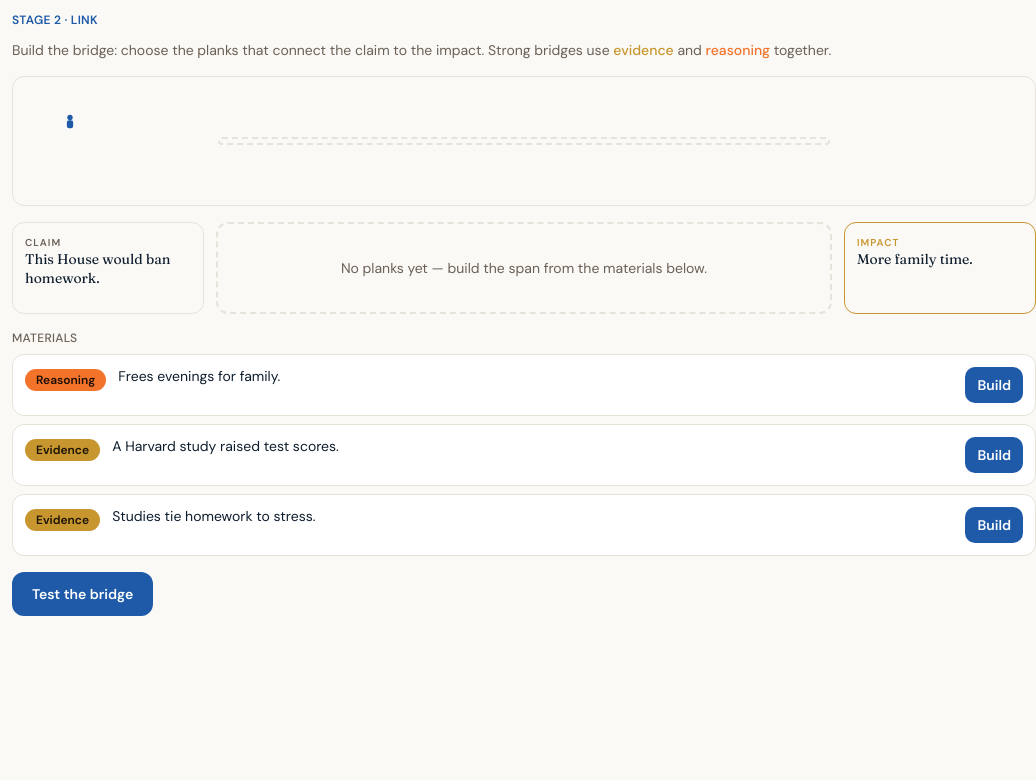
Test: LinkCard › shows the bridge holding when the two fitting planks are built and no wrong ones
Click the button "Build" in the row of "Studies tie homework to stress.".
click(994, 525)  # box [966,507,1023,543]
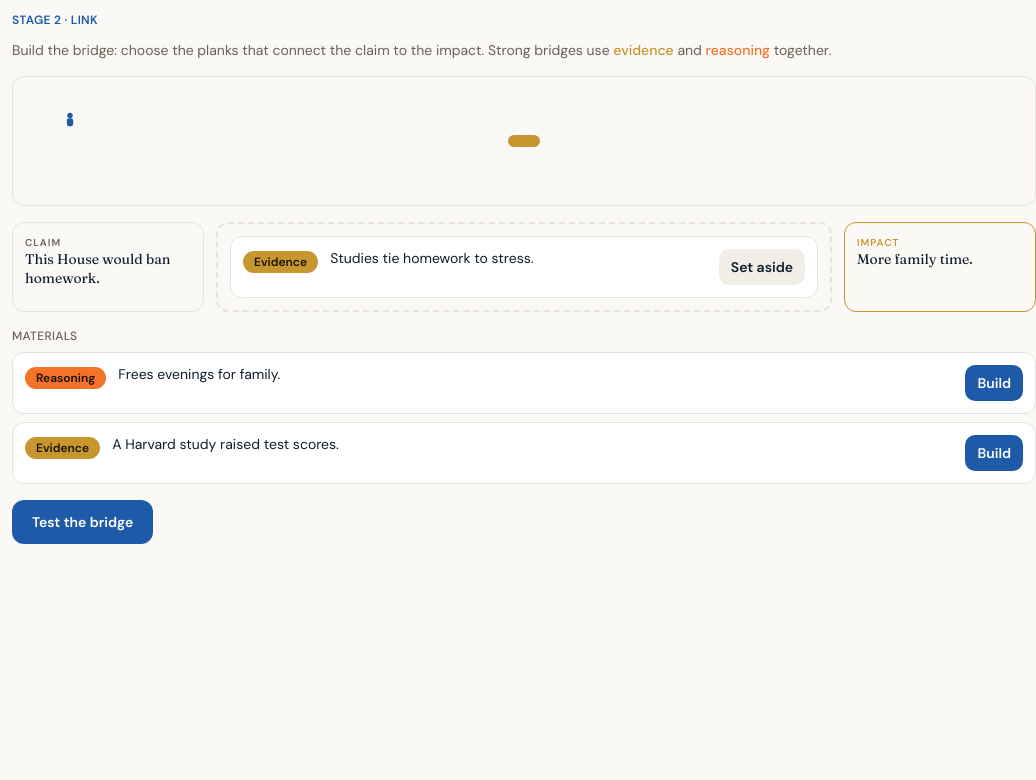
Click the button "Build" in the row of "Frees evenings for family.".
click(994, 383)  # box [966,365,1023,401]
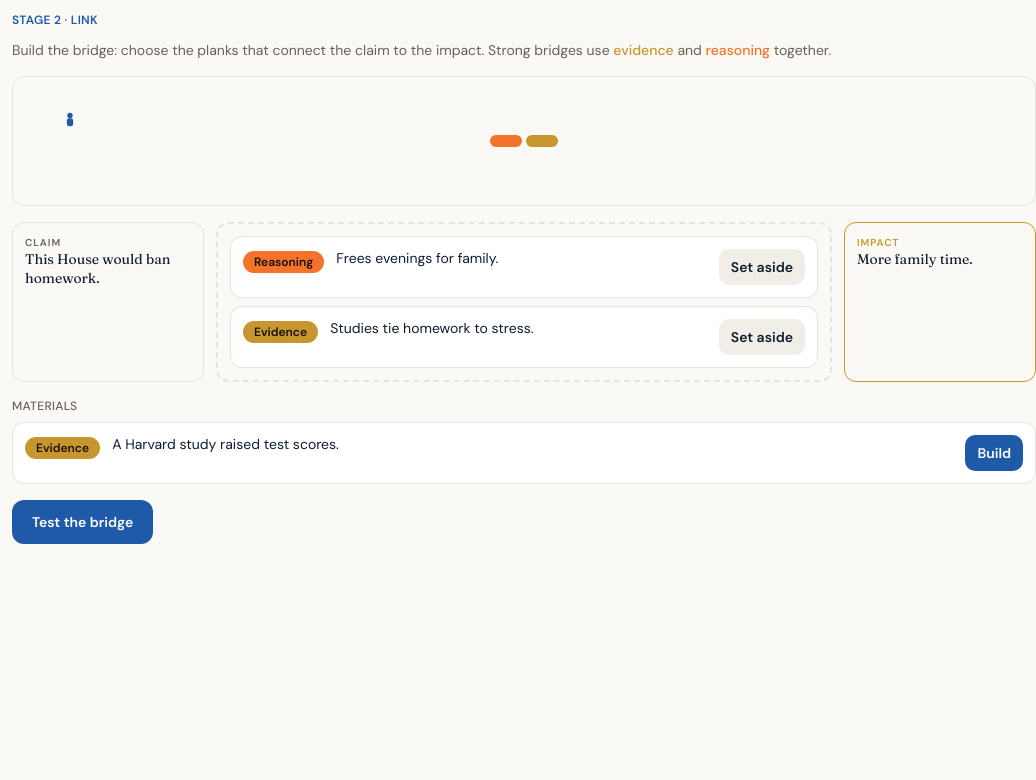
Click the button "Test the bridge".
click(83, 522)  # box [12,500,153,544]
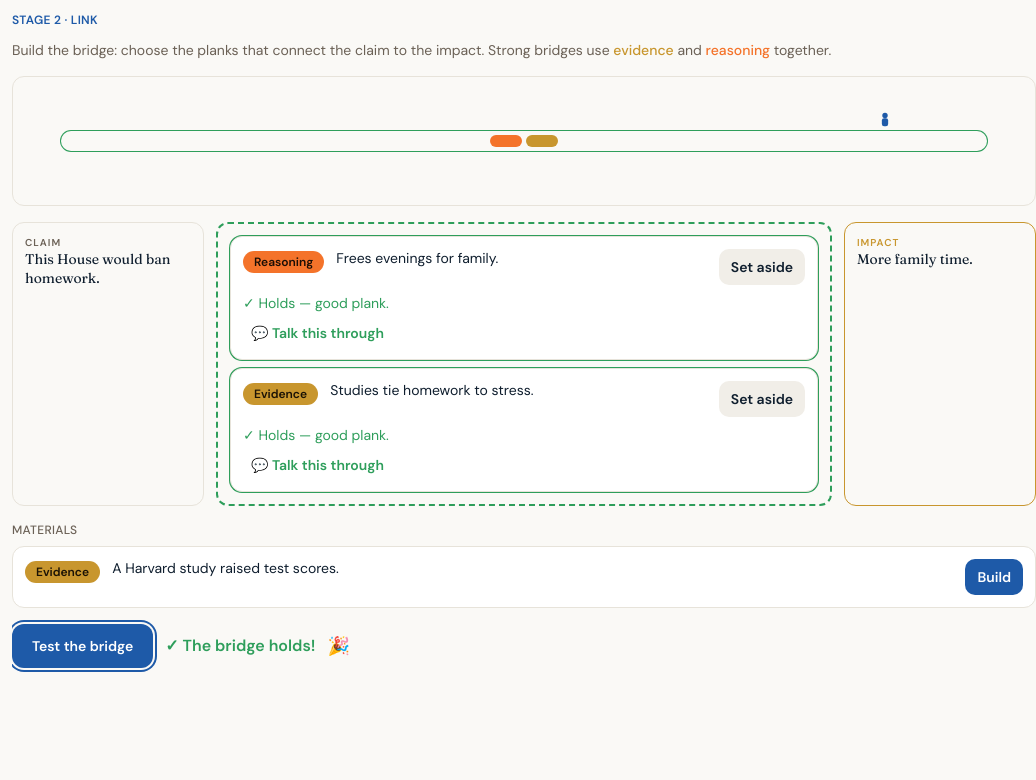
Check: the text "✓ The bridge holds!" is shown, box [165,634,316,658]
